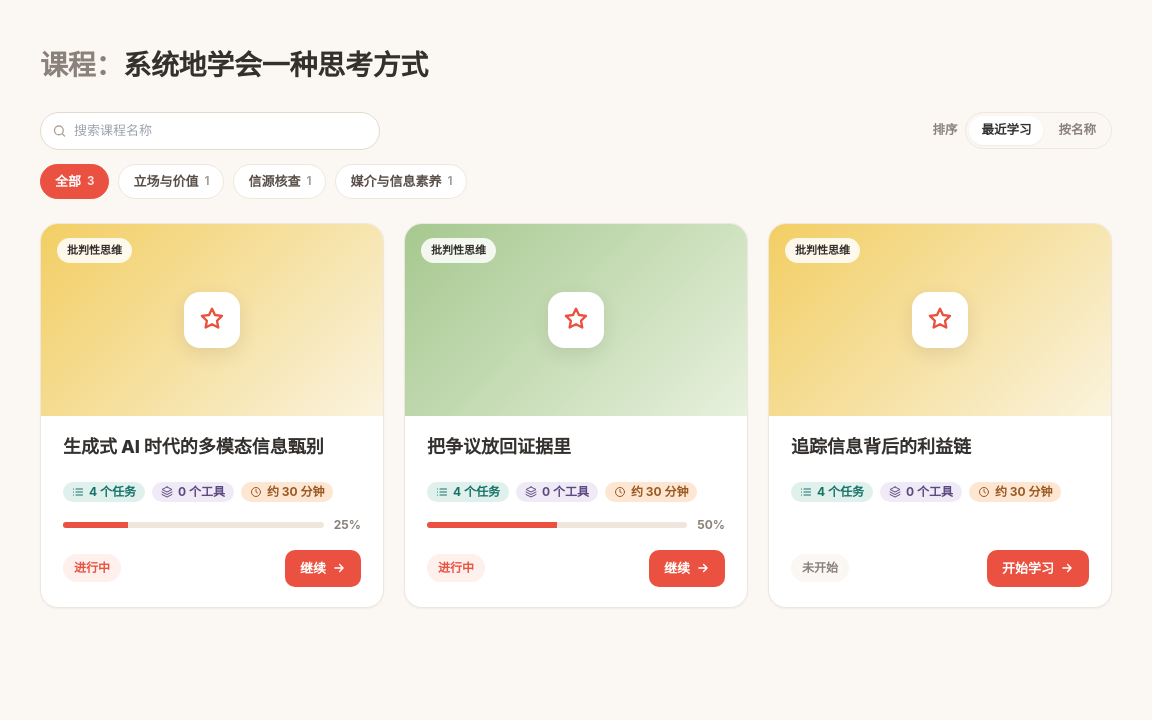
Test: CoursesView › searches by course name and shows an empty state rather than the whole catalog
Expected: the text "追踪信息背后的利益链" is shown, [791,436,971,457]
Type "利益链" into the search field labelled "搜索课程名称" at (210, 131), box [40,112,380,150]
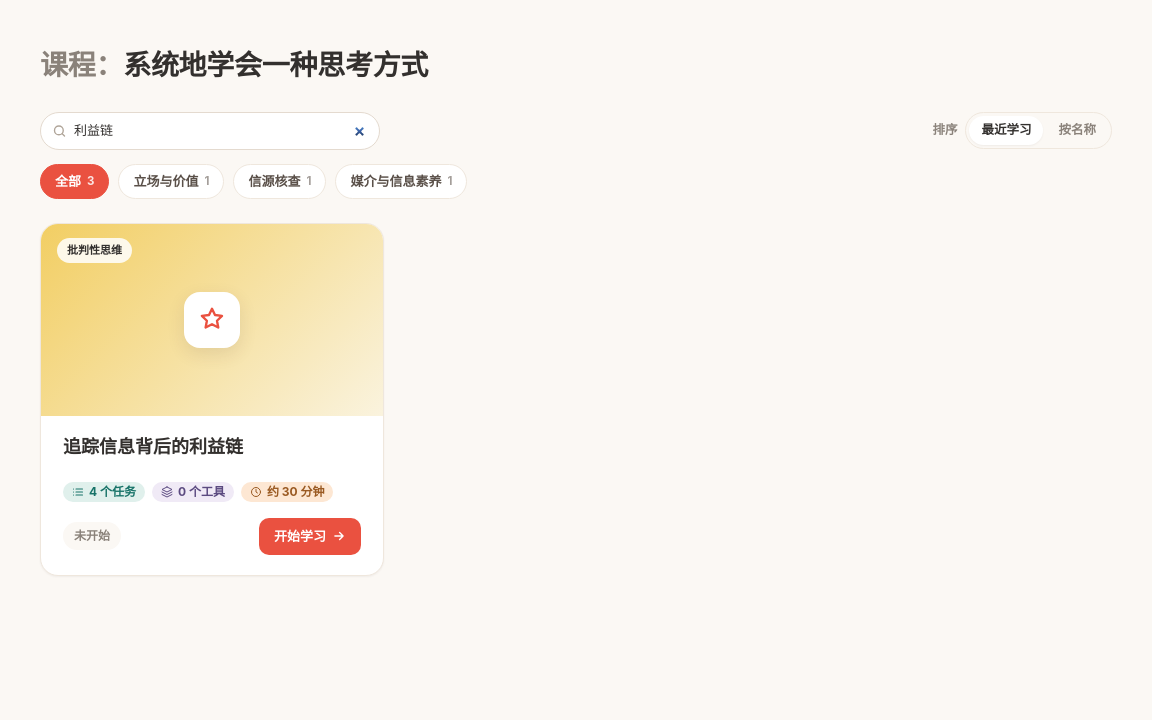
Replace the text in the search field named "搜索课程名称" with "量子力学" at (210, 131), box [40,112,380,150]
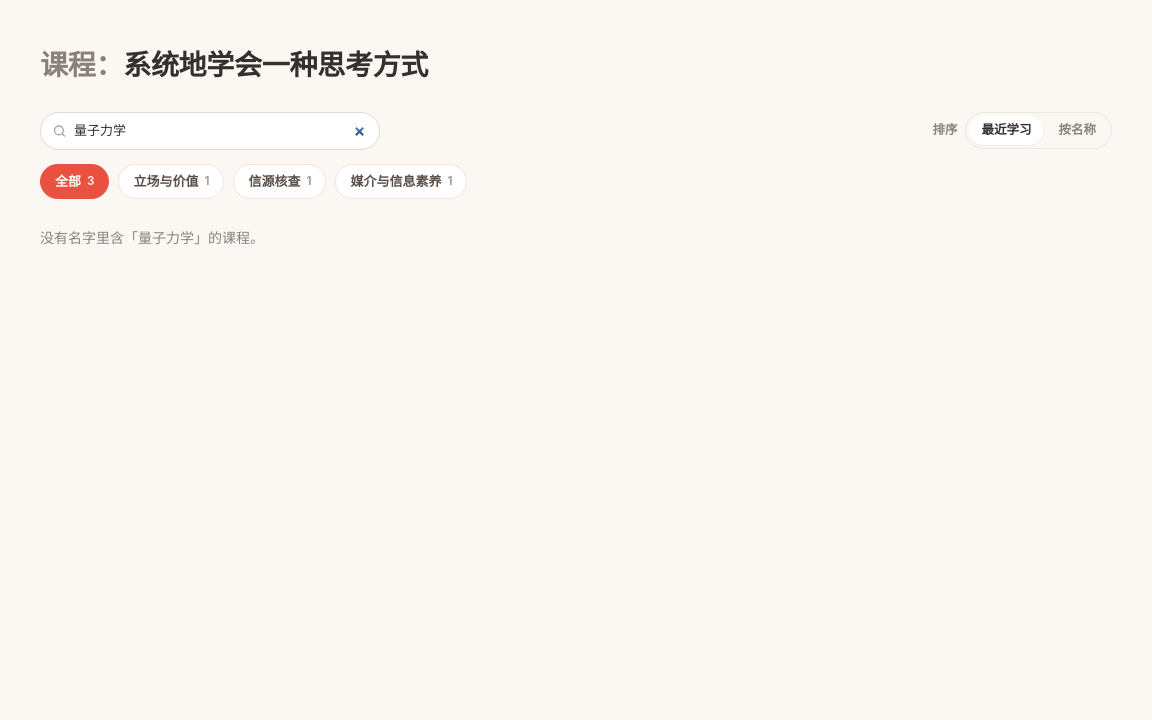
Expected: the text "没有名字里含「量子力学」的课程。" is shown, [40,229,264,246]
